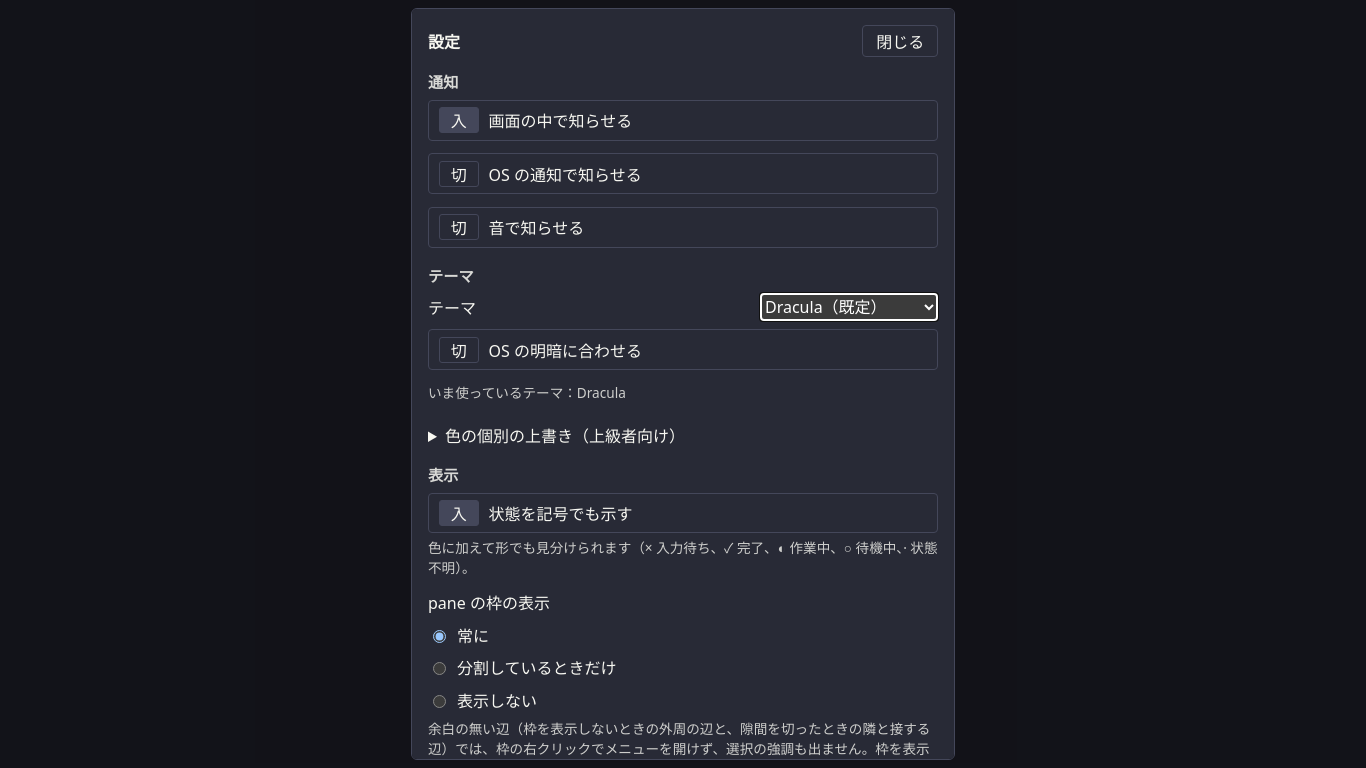
SettingsDialog — テーマの節 › 選んだ時点で反映・保存し（確定ボタンは無い）、フォーカスは選んだ部品に残る（AC-I2・AC-I4）
The image size is (1366, 768).
Step 1. Select "Gruvbox Light" in the dropdown labelled "テーマ" → [849, 307], box [760,293,938,321]
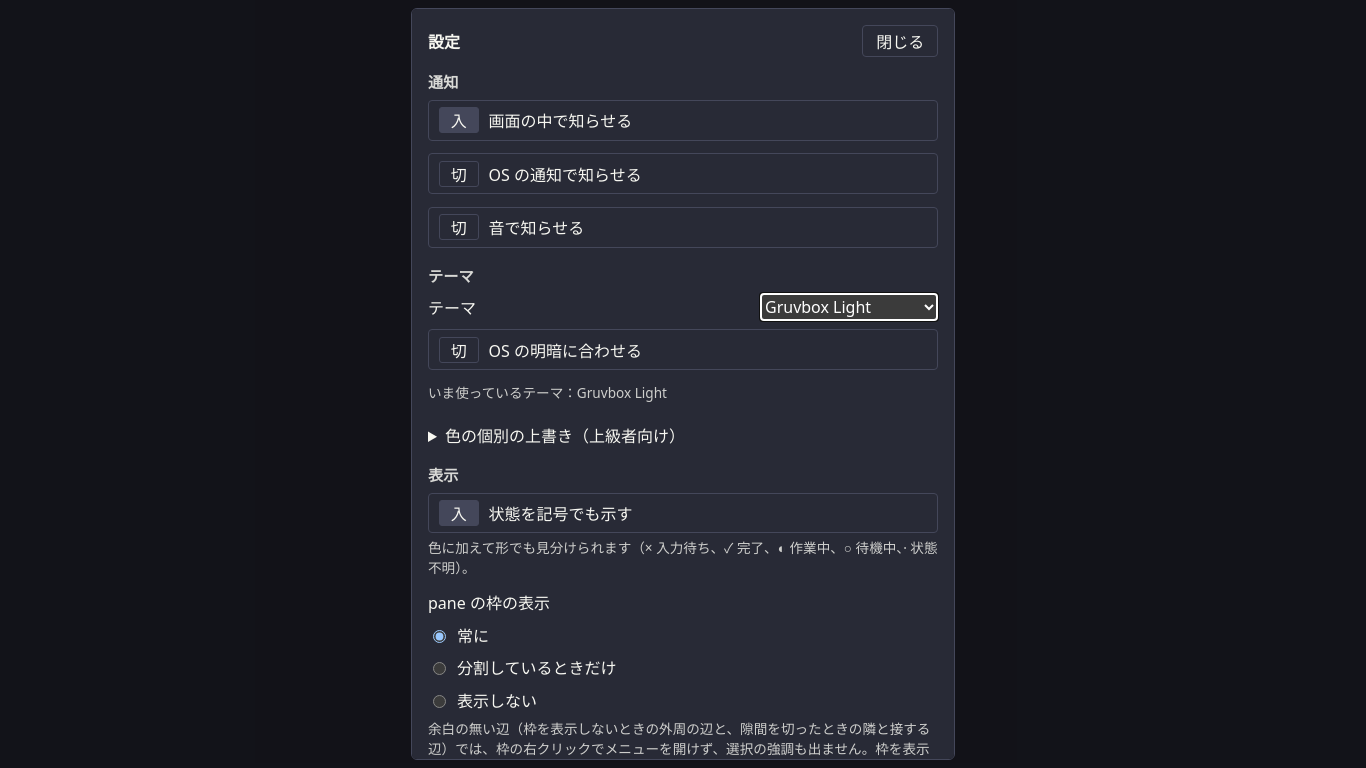
Result: the text with id "settings-theme-note" reads "いま使っているテーマ：Gruvbox Light" at [428,383,667,402]
